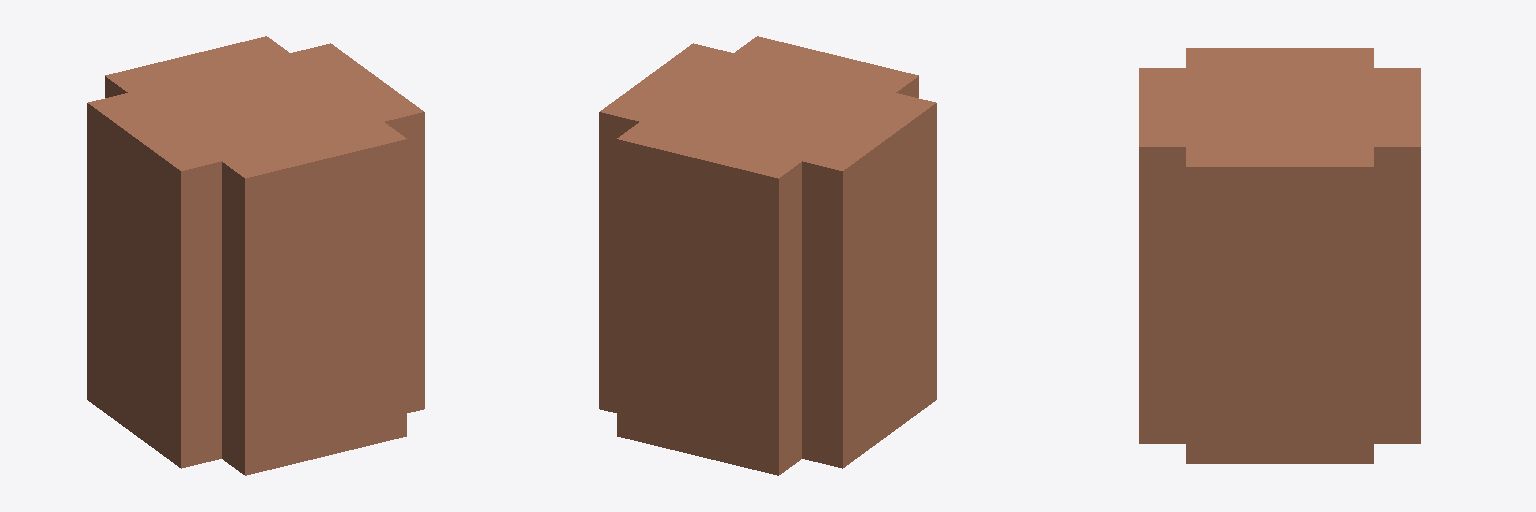
3 renders of one model, left to right at view 1: azimuth 30°, elevation 25°; view 2: azimuth 150°, elevation 25°; view 3: azimuth 270°, elevation 25°, orthographic.
Parts seen in each view (by area): view 1: object 1; view 2: object 1; view 3: object 1.
Part boxes in pixels (x1,y1,x2,y2): object 1: (87,36,424,475); object 1: (599,36,936,475); object 1: (1139,48,1420,463).
Size of the model in its own units: 0.6 by 0.7 by 0.6.
1 materials, 1 textured.